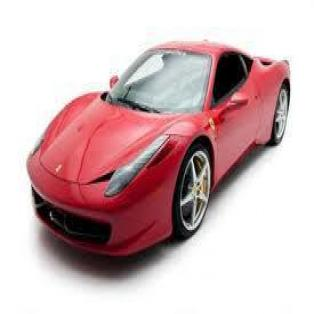Auto: (26, 39, 291, 261)
